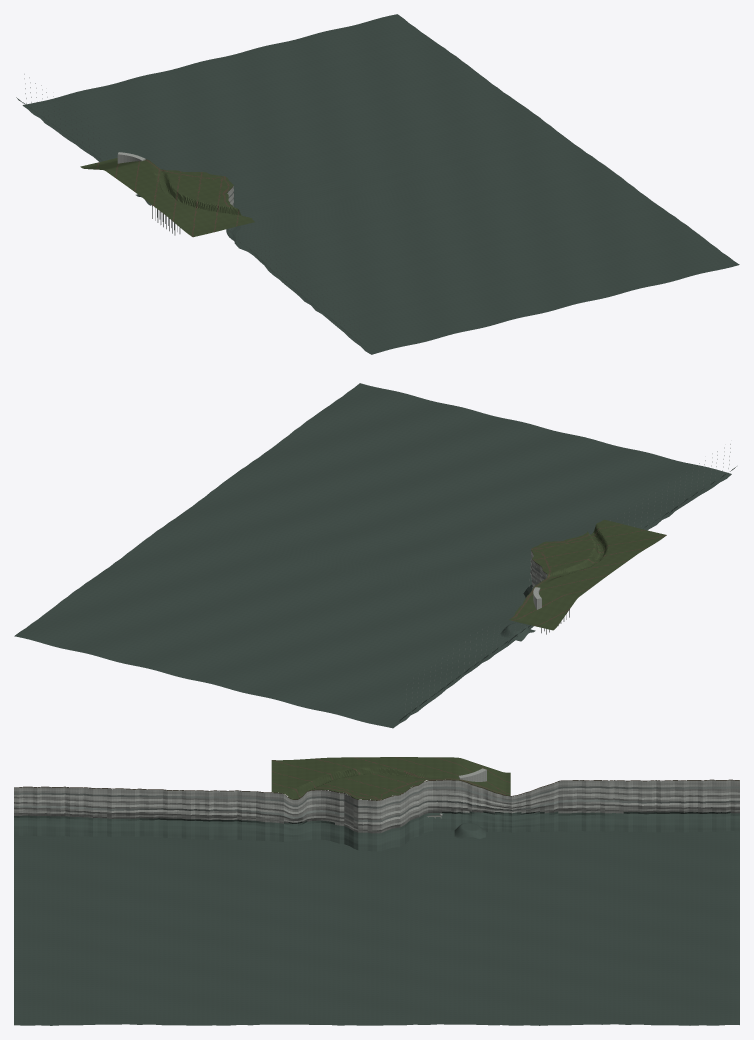
Rendered from coastal-memory.glb.
The picture shows the model from 3 angles, top to bottom: view 1: azimuth 30°, elevation 25°; view 2: azimuth 150°, elevation 25°; view 3: azimuth 270°, elevation 25°; orthographic projection. The views are drawn at different scales.
Visible parts, largest first — view 1: cm_seabed, cm_grass_bank, cm_limestone_coast; view 2: cm_seabed, cm_grass_bank, cm_limestone_coast; view 3: cm_seabed, cm_limestone_coast, cm_grass_bank, cm_soil_cap.
Part boxes in pixels (x1,y1,x2,y2): cm_seabed: (22, 14, 739, 354); cm_grass_bank: (80, 158, 254, 237); cm_limestone_coast: (16, 74, 365, 346); cm_seabed: (14, 383, 731, 728); cm_grass_bank: (509, 519, 666, 630); cm_limestone_coast: (399, 444, 736, 721); cm_seabed: (14, 830, 739, 1025); cm_limestone_coast: (14, 768, 739, 851); cm_grass_bank: (271, 757, 510, 800); cm_soil_cap: (14, 779, 739, 800).
Bounding box in the file's own units: 366 × 44.2 × 510.
Materials: 14 (14 with a texture image).
